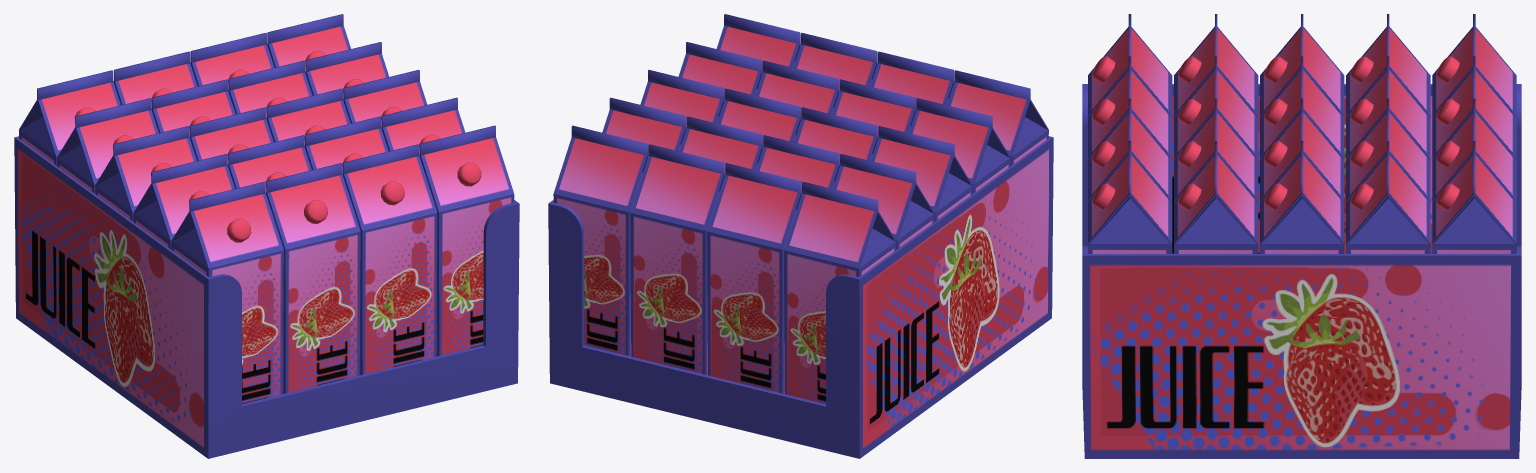
Rendered from Juice_Big_Strawberry_x20.fbx.
The picture shows the model from 3 angles, left to right: view 1: azimuth 30°, elevation 25°; view 2: azimuth 150°, elevation 25°; view 3: azimuth 270°, elevation 25°; orthographic projection. The views are drawn at different scales.
Parts seen in each view (by area): view 1: Juice_Big_Strawberry.002; view 2: Juice_Big_Strawberry.002; view 3: Juice_Big_Strawberry.002.
Boxes of the visible parts, bbox=[...] form: Juice_Big_Strawberry.002: bbox=[14, 14, 519, 458]; Juice_Big_Strawberry.002: bbox=[548, 14, 1053, 458]; Juice_Big_Strawberry.002: bbox=[1082, 14, 1521, 458].
Bounding box in the file's own units: 55.73 × 41.67 × 60.26.
2 materials, 2 textured.
